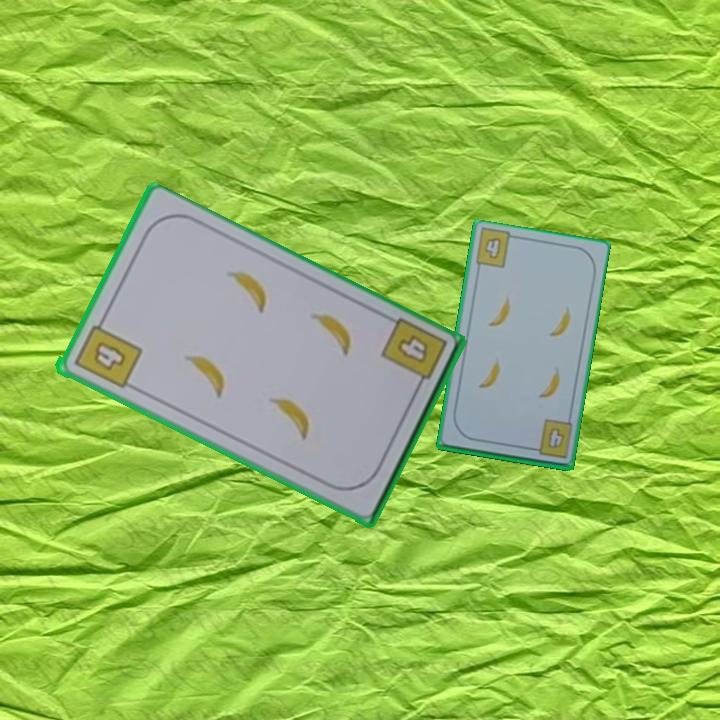4b: (69, 313, 144, 392), (526, 416, 573, 461), (392, 331, 431, 367), (480, 233, 504, 261)
